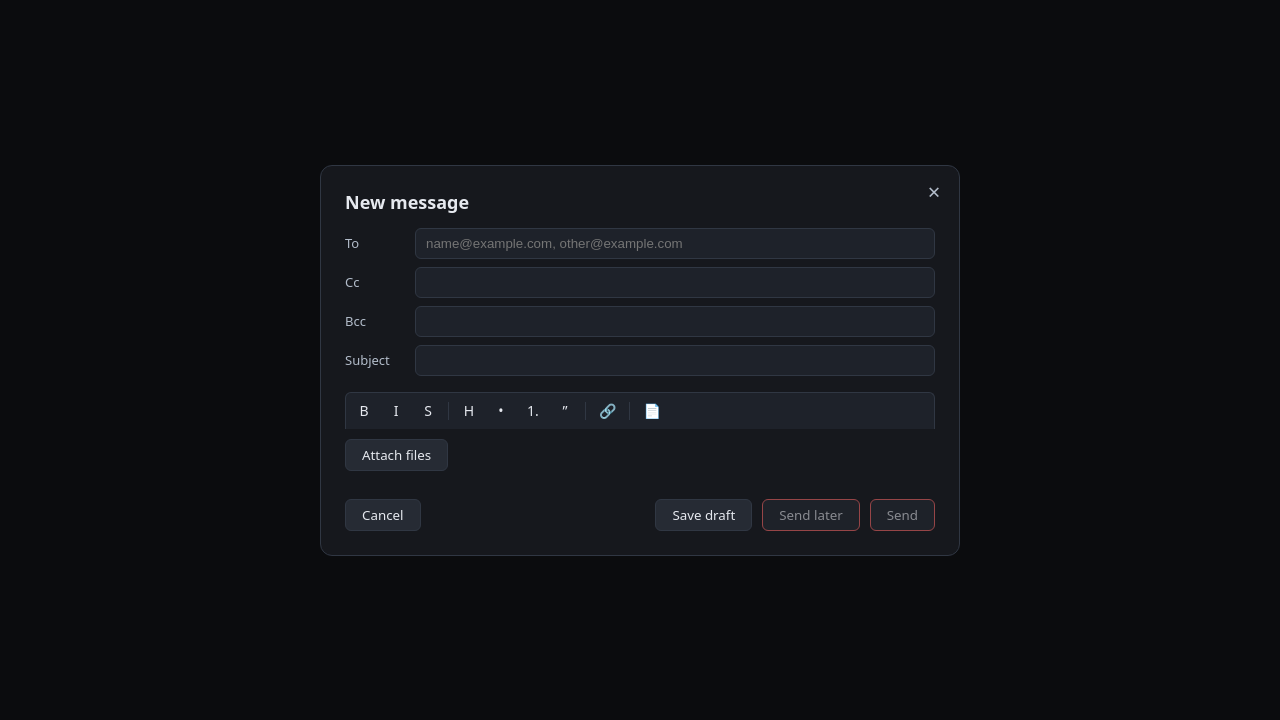
Scenario: the compose template picker › loads the templates when the picker is first opened
Click the button named "Insert template": {"x": 652, "y": 410} [636,396,668,424]
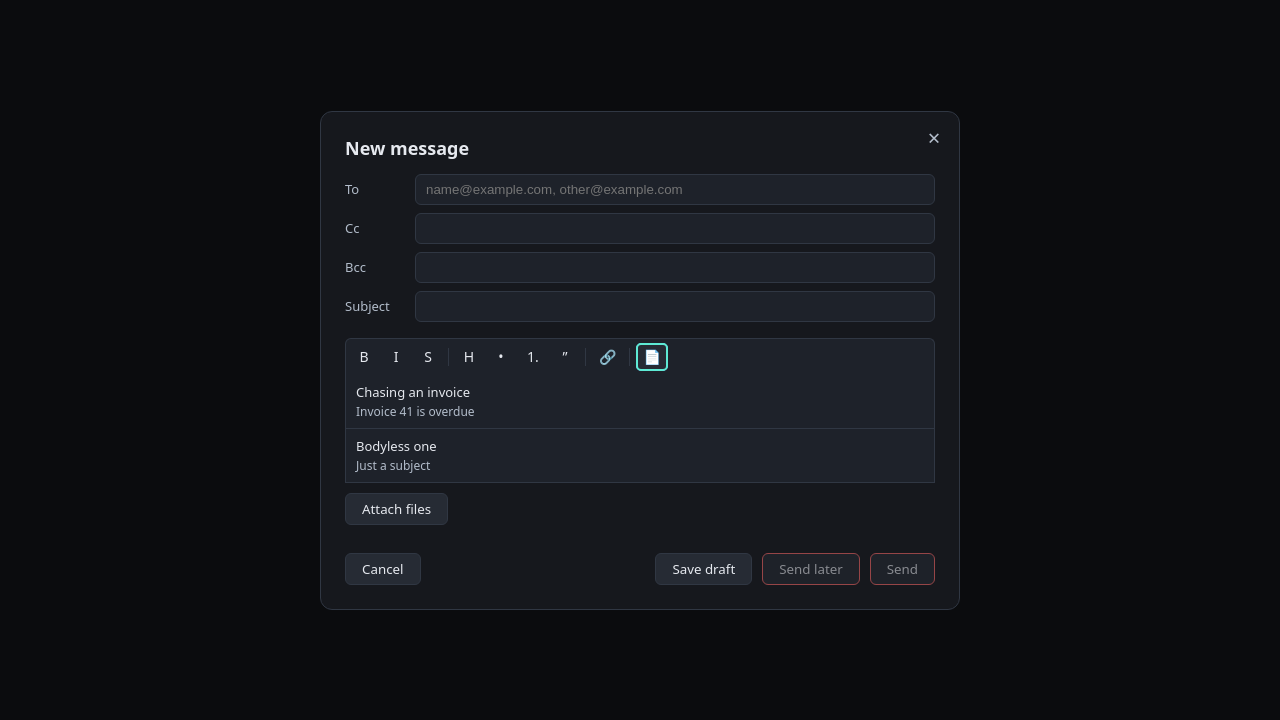
Expected: the menu named "Message templates" is shown, [345,374,935,482]
Expected: the text "Chasing an invoice" is shown, [356,382,470,400]
Expected: the button named "Insert template" is expanded, [636,342,668,370]
